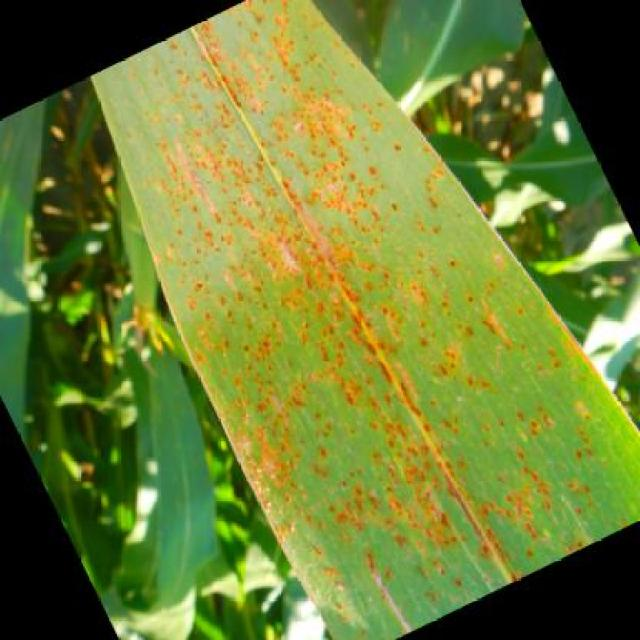Corn_Rust: (143, 63, 551, 562)
